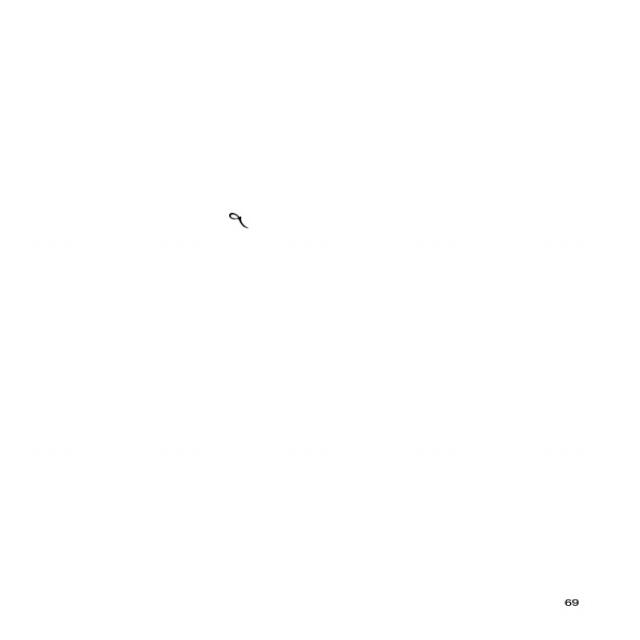9 -nine-: (225, 210, 252, 231)
